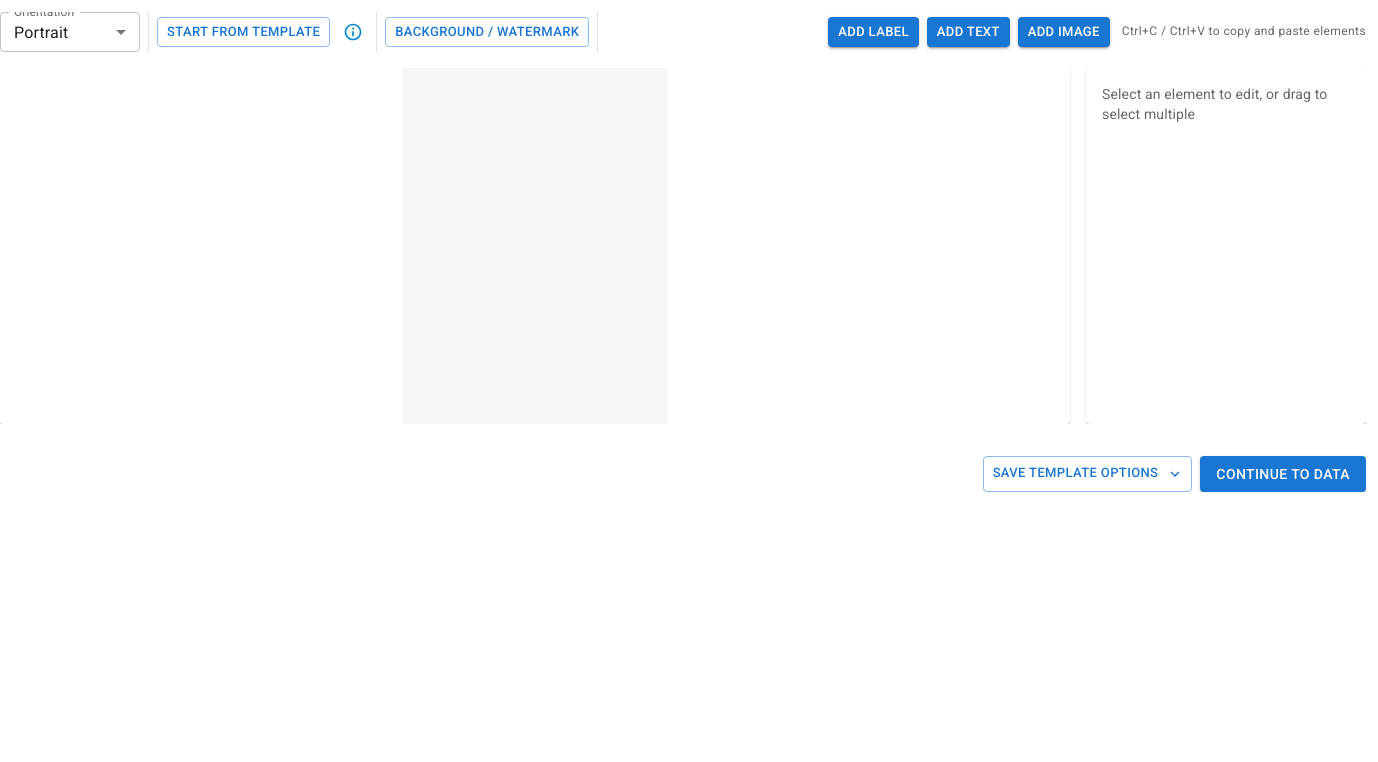
Test: DesignStep — adding elements › Add Label adds and selects a label element
Click the button "Add Label" at x=874, y=32, box [828, 17, 919, 47]
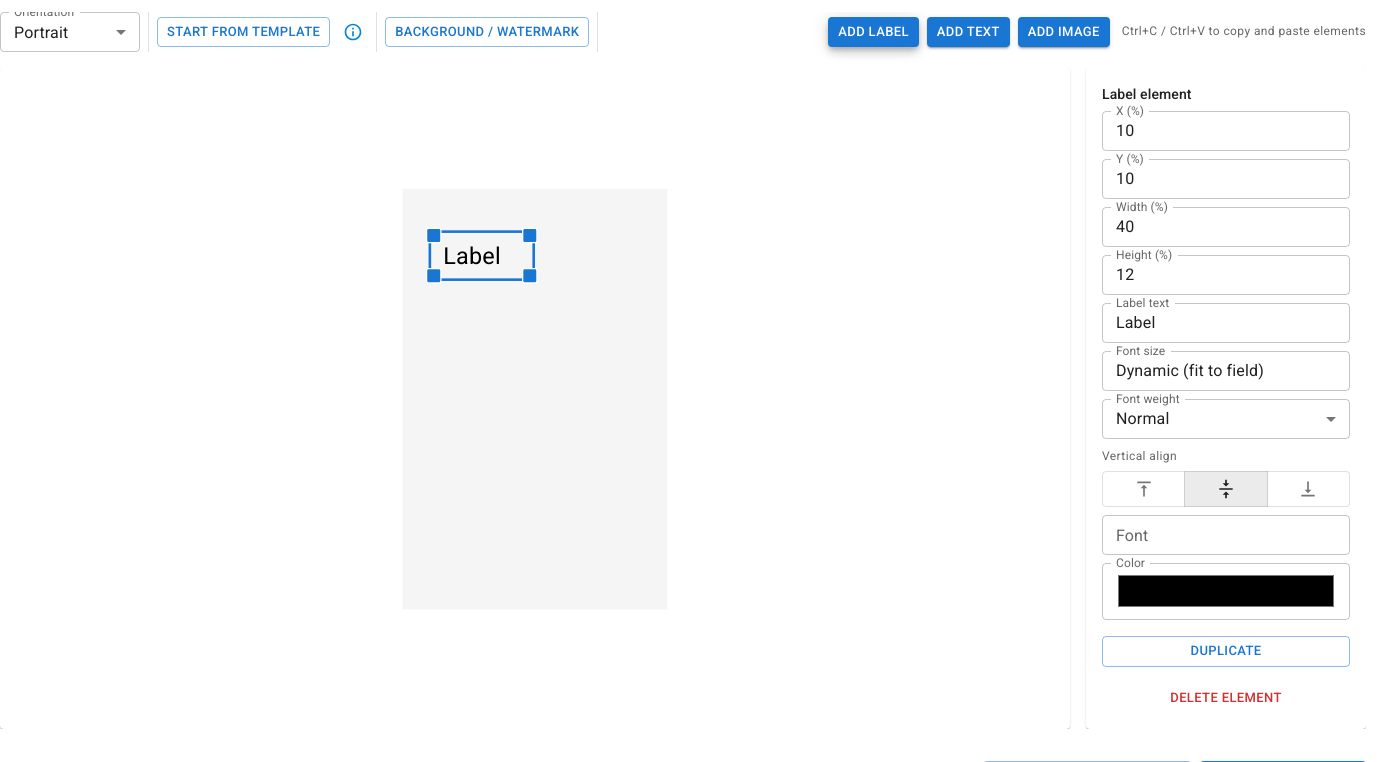
Expected: the heading "Label element" is shown, [1102, 86, 1192, 102]
